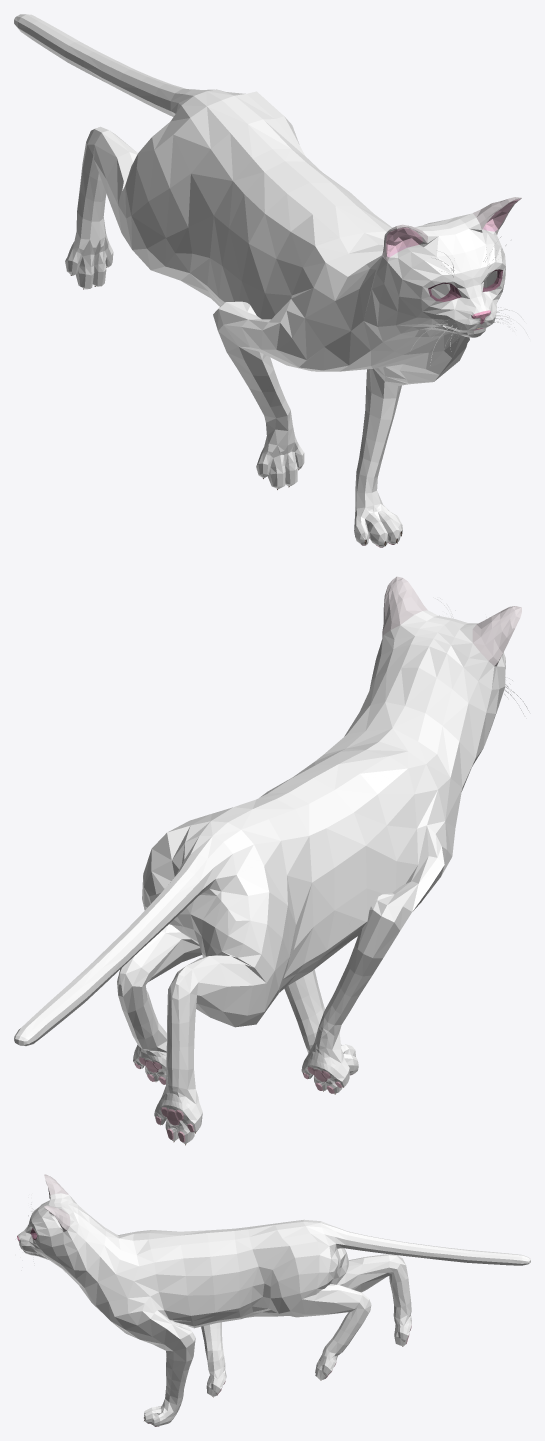
The model's file is Run_F_06.glb.
3 views of the same model, one above another, from view 1: azimuth 30°, elevation 25°; view 2: azimuth 150°, elevation 25°; view 3: azimuth 270°, elevation 25° (orthographic). The views are drawn at different scales.
Visible parts, largest first — view 1: Run_F_06; view 2: Run_F_06; view 3: Run_F_06.
Boxes of the visible parts, x1,y1,x2,y2 form: Run_F_06: [14, 14, 529, 547]; Run_F_06: [14, 576, 528, 1145]; Run_F_06: [17, 1174, 530, 1426].
Bounding box in the file's own units: 0.1696 × 0.3734 × 0.777.
1 material, 1 textured.
